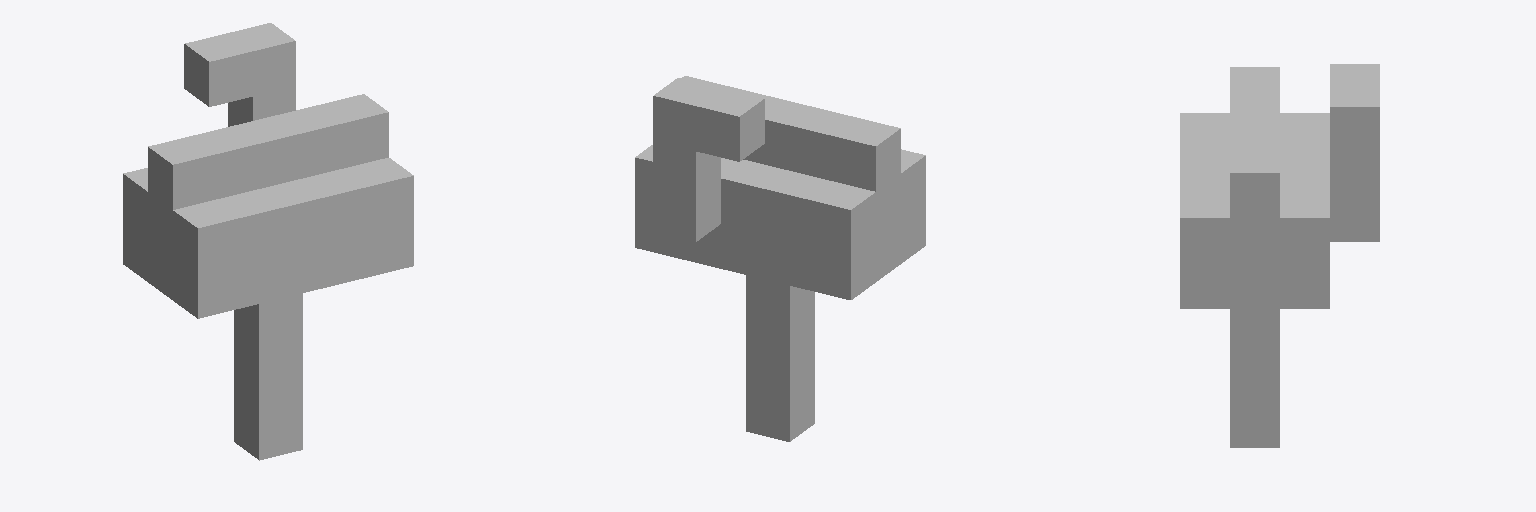
Rendered from Mailbox.obj.
3 views of the same model, side by side, from view 1: azimuth 30°, elevation 25°; view 2: azimuth 150°, elevation 25°; view 3: azimuth 270°, elevation 25° (orthographic).
Parts seen in each view (by area): view 1: Mailbox; view 2: Mailbox; view 3: Mailbox.
Boxes of the visible parts, box(x1,y1,x2,y2) form: Mailbox: box(123, 23, 413, 460); Mailbox: box(635, 76, 925, 441); Mailbox: box(1180, 64, 1379, 447).
Size of the model in its own units: 5 by 8 by 4.